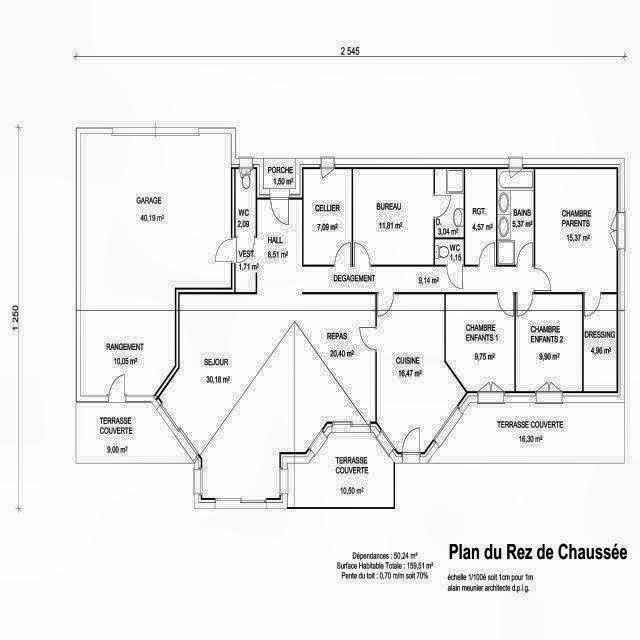room: (78, 91, 546, 537), (377, 294, 466, 452), (535, 169, 617, 292), (353, 169, 434, 265), (446, 294, 514, 391), (516, 294, 582, 391), (303, 169, 352, 265), (497, 169, 534, 265), (584, 294, 617, 391), (465, 169, 496, 265), (435, 169, 464, 237), (236, 169, 256, 236), (435, 239, 464, 265)
